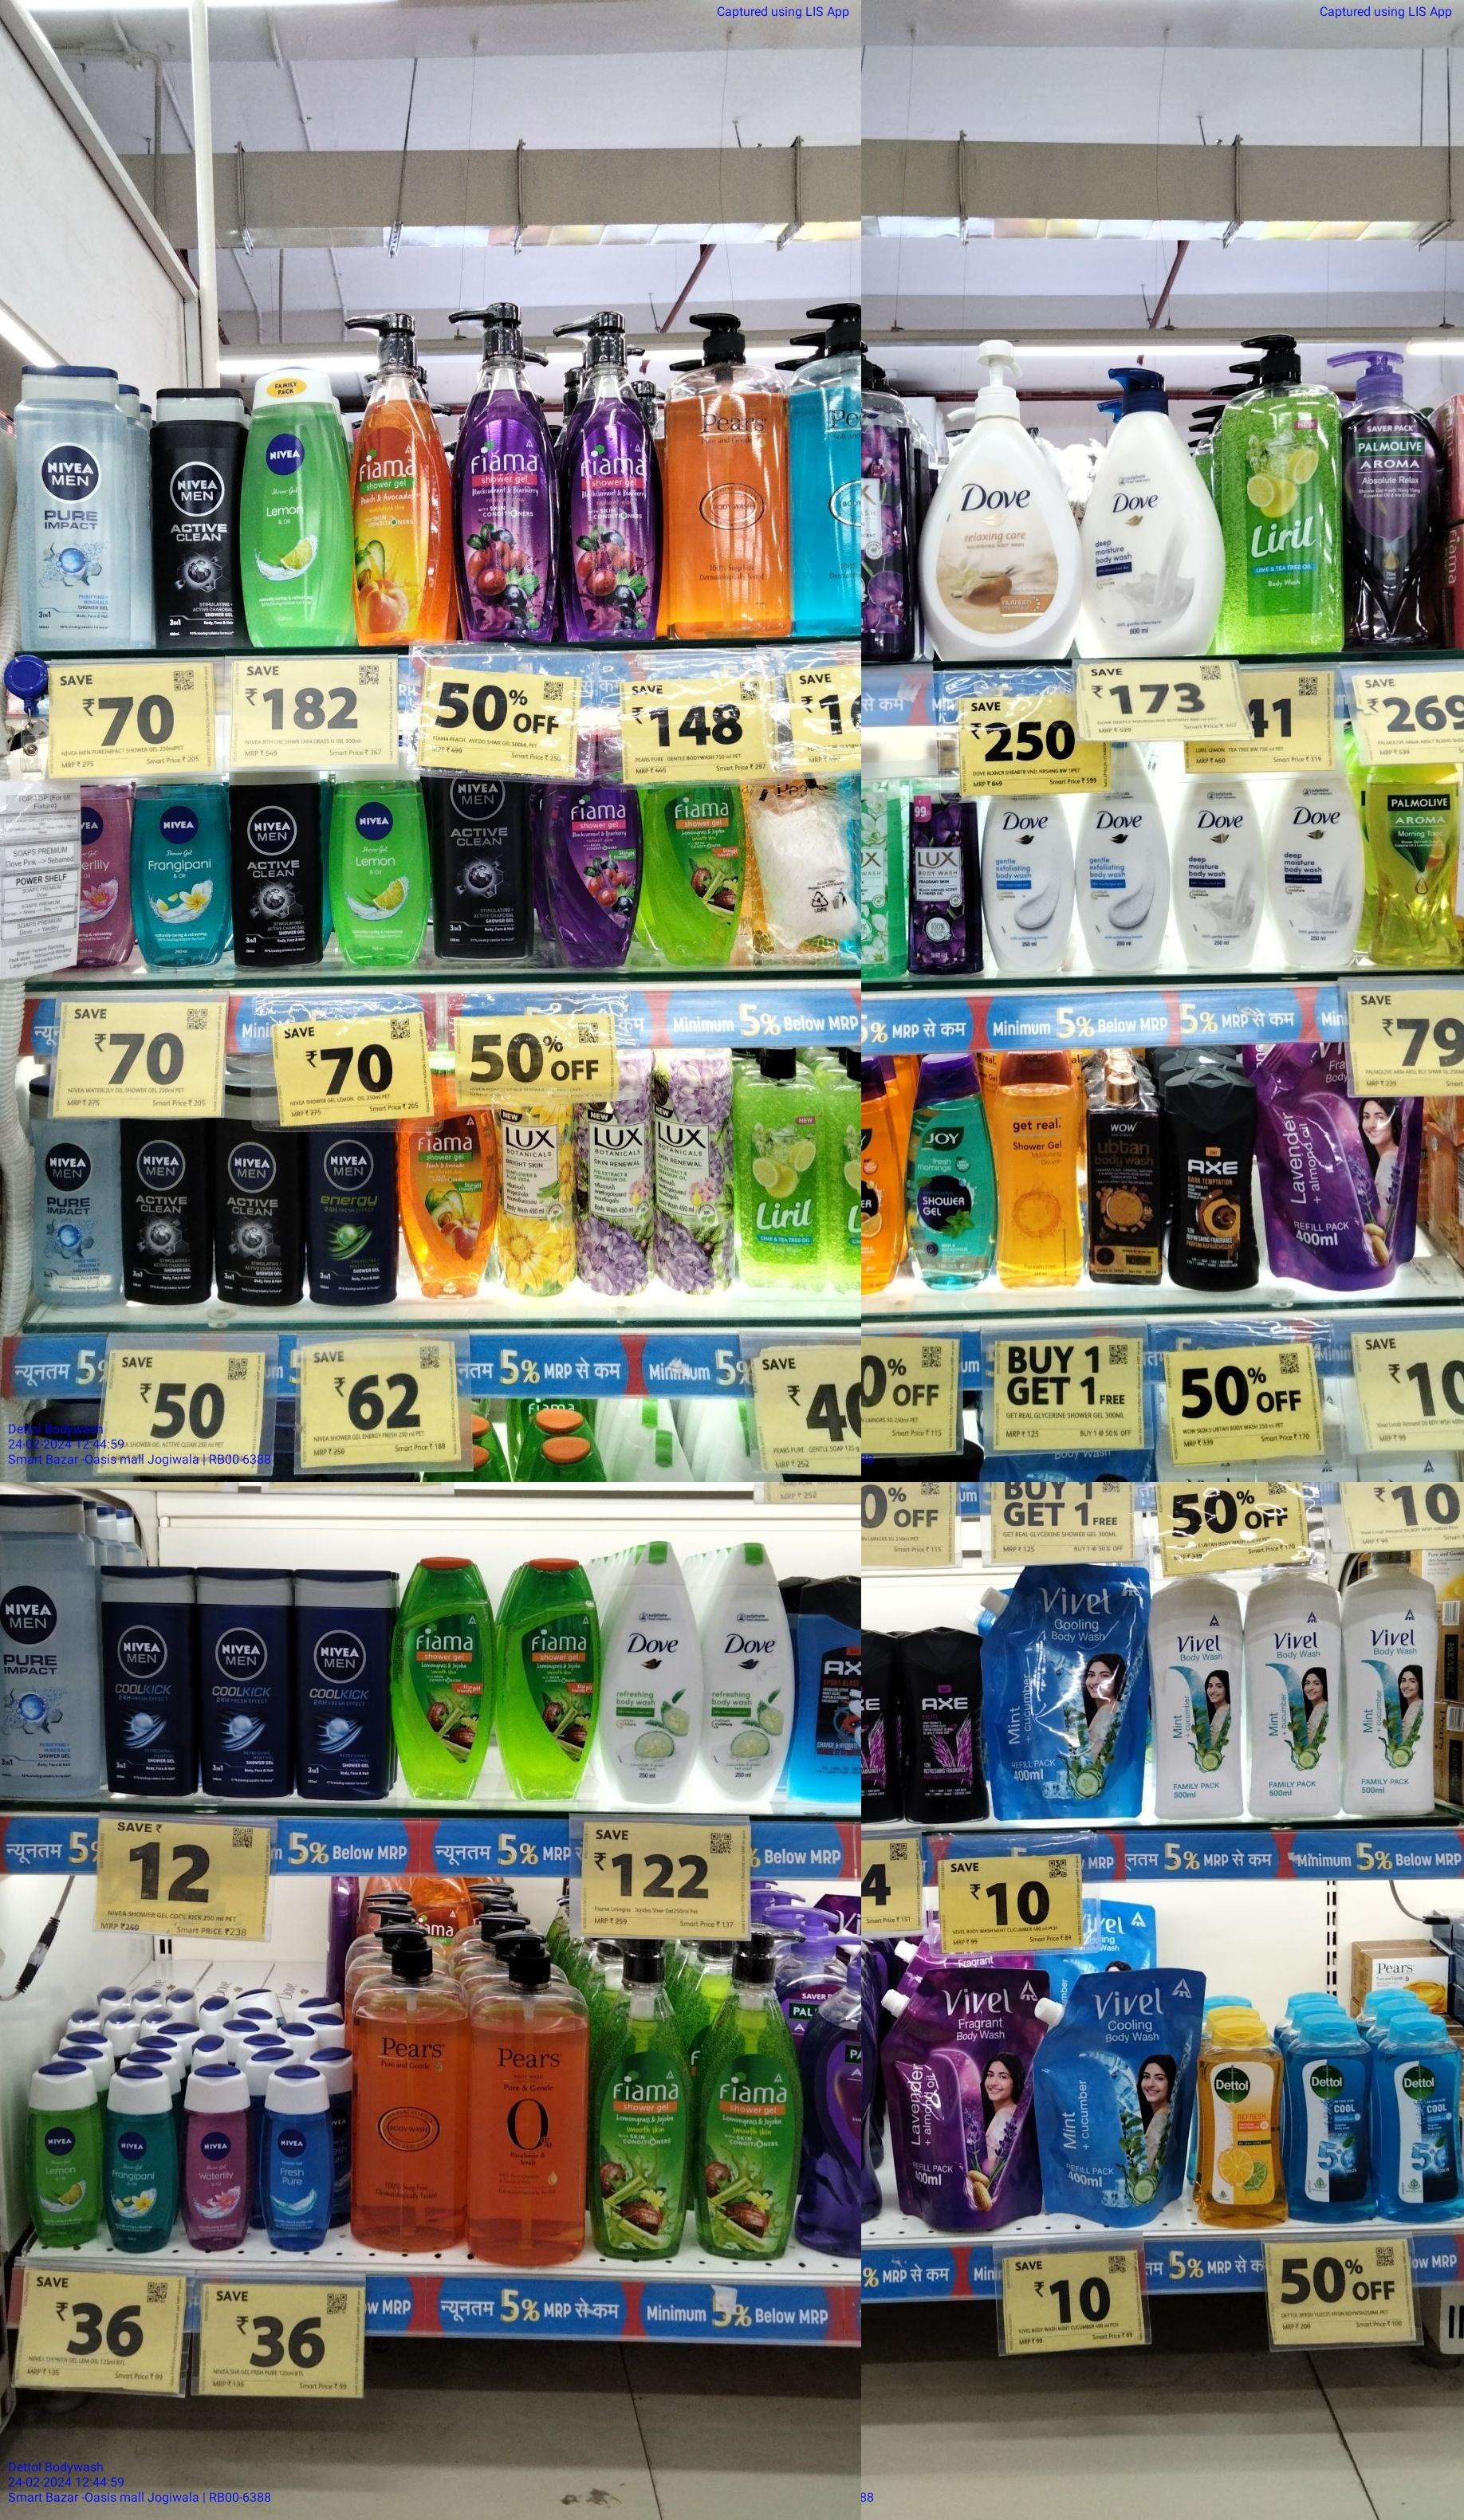Dettol_Bodywash_Cool: (1373, 2024, 1464, 2226), (1284, 2020, 1370, 2224)
Dettol_Bodywash_Refresh: (1196, 2017, 1284, 2234)
Dove_Deep_Moisture_Body_Wash_250ML: (1175, 773, 1267, 977), (1272, 773, 1363, 972)
Dove_Gentle_Exfoliating_Body_Wash_250ML: (1077, 792, 1169, 975), (986, 798, 1072, 972)
Dove_Refreshing_Body_Wash_250ML: (608, 1545, 706, 1806), (715, 1546, 791, 1806)
Fiama_Shower_Gel_Lemongrass_and_Jojoba_250ML: (504, 1553, 596, 1802), (401, 1560, 495, 1799), (652, 782, 744, 963)
Fiama_Shower_Gel_Peach_and_Avocado_250ML: (401, 1111, 498, 1299)
Get_Real_Shower_Gel_Moisturising_Glycerin_300ML: (1002, 1048, 1084, 1287)
Joy_Shower_Gel_Mint_and_Eucalyptus_250ML: (901, 1045, 999, 1285)
Liril_Lime_and_Tea_Tree_Oil_Body_Wash_250ML: (735, 1047, 831, 1270)
Lux_Black_Orchid_Scent_and_Juniper_Oil_Body_Wash_245ML: (908, 773, 981, 977)
Nivea_Shower_Gel_Frangipani_and_Oil_250ML: (138, 784, 228, 968)
Nivea_Shower_Gel_Lemon_and_Oil_250ML: (249, 376, 349, 651), (331, 785, 425, 970)
Palmolive_Aroma_Morning_Tonic_Shower_Gel_250ML: (1366, 758, 1461, 970)
